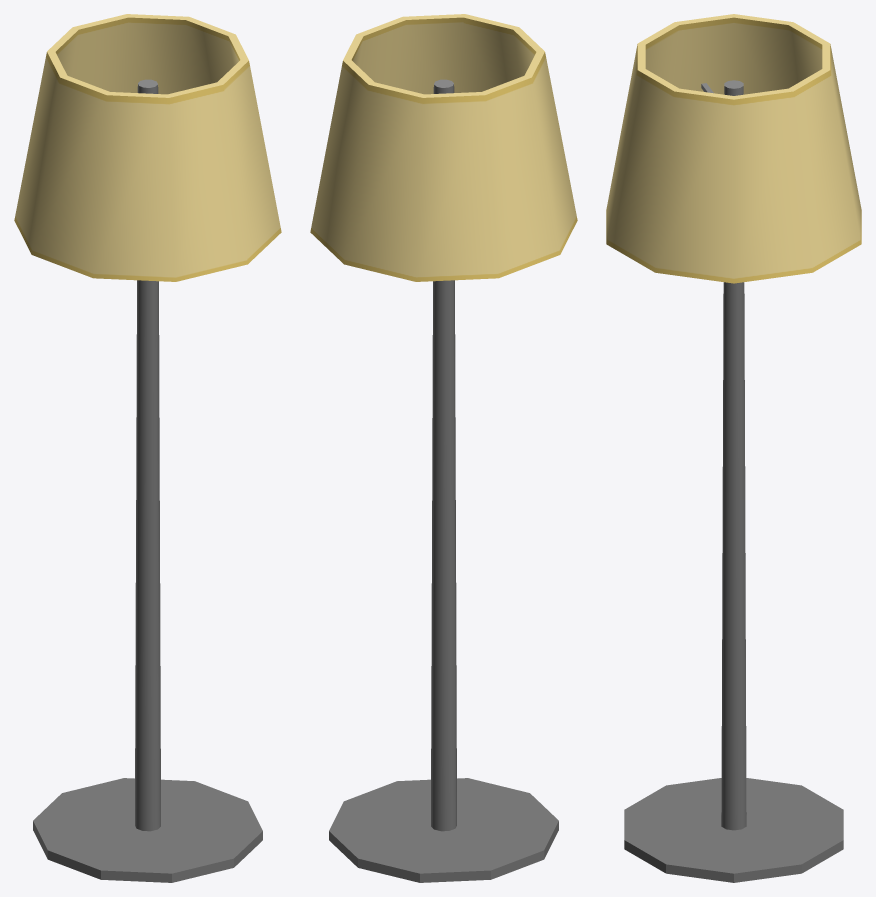
File: Lampshade.obj
The picture shows the model from 3 angles, left to right: view 1: azimuth 30°, elevation 25°; view 2: azimuth 150°, elevation 25°; view 3: azimuth 270°, elevation 25°; orthographic projection.
Visible parts, largest first — view 1: Lampshade; view 2: Lampshade; view 3: Lampshade.
Part boxes in pixels (left/top/right/bottom): Lampshade: left=14, top=14, right=281, bottom=882; Lampshade: left=310, top=14, right=577, bottom=882; Lampshade: left=606, top=14, right=861, bottom=882.
Bounding box in the file's own units: 76.25 × 244 × 72.52.
